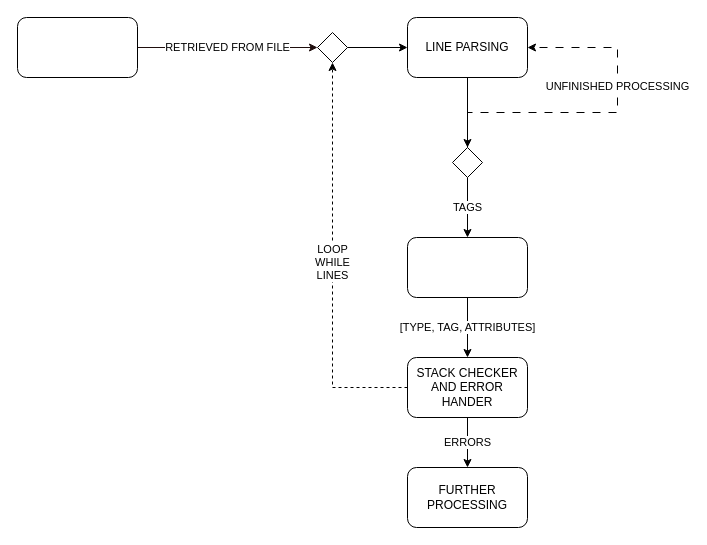
Image size: 707x545. Some labels were removed from this diagram. The centre of each missing label's shape, as x and y in pixels:
"HTML CODE" goes at [77,47].
"STRUCTURAL PATTERN MATCHING" goes at [467,267].
